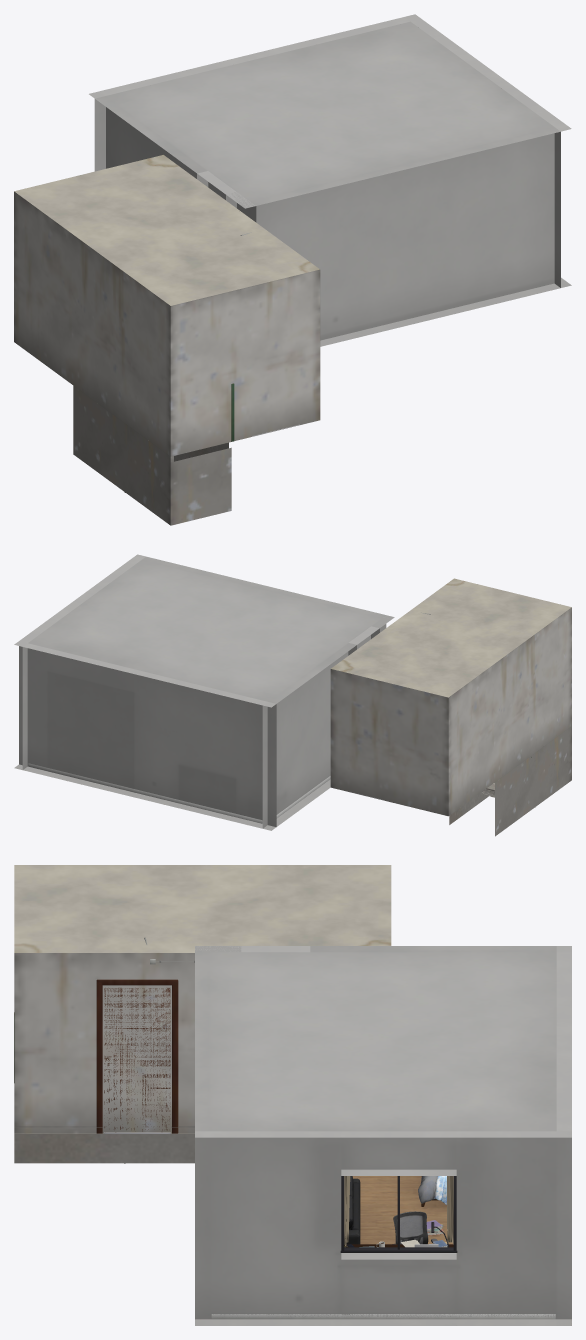
Rendered from room.glb.
3 views of the same model, one above another, from view 1: azimuth 30°, elevation 25°; view 2: azimuth 150°, elevation 25°; view 3: azimuth 270°, elevation 25° (orthographic). The views are drawn at different scales.
Parts seen in each view (by area): view 1: static_a0, static_a5, static_a2, static_a8, static_a1; view 2: static_a1, static_a5, static_a0, static_a8, static_a2; view 3: static_a0, static_a1, static_a8, static_a5, static_a6, static_a2, ai_chair, ai_sofa, ai_bed.
Part boxes in pixels (left/top/right/bottom): static_a0: left=95, top=21, right=560, bottom=222; static_a5: left=14, top=191, right=320, bottom=456; static_a2: left=106, top=107, right=560, bottom=346; static_a8: left=14, top=155, right=319, bottom=525; static_a1: left=89, top=14, right=571, bottom=287; static_a1: left=14, top=554, right=379, bottom=830; static_a5: left=330, top=607, right=571, bottom=816; static_a0: left=28, top=556, right=394, bottom=703; static_a8: left=331, top=578, right=571, bottom=836; static_a2: left=28, top=645, right=356, bottom=828; static_a0: left=195, top=946, right=556, bottom=1319; static_a1: left=195, top=946, right=571, bottom=1325; static_a8: left=14, top=865, right=391, bottom=1163; static_a5: left=14, top=937, right=194, bottom=1133; static_a6: left=352, top=1176, right=452, bottom=1244; static_a2: left=341, top=1176, right=456, bottom=1253; ai_chair: left=392, top=1211, right=437, bottom=1244; ai_sofa: left=346, top=1176, right=360, bottom=1244; ai_bed: left=418, top=1176, right=446, bottom=1206.
Bounding box in the file's own units: 8.6 × 3.91 × 7.25.
44 materials, 36 textured.
